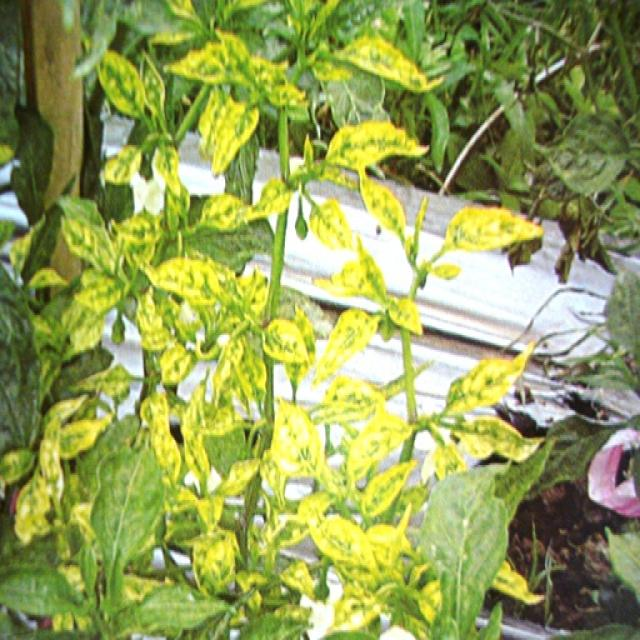virus_kuning: (443, 342, 535, 426), (435, 202, 553, 263), (323, 113, 435, 170), (314, 310, 384, 393), (362, 465, 428, 535), (350, 175, 410, 230), (262, 318, 312, 377), (390, 292, 429, 342)
